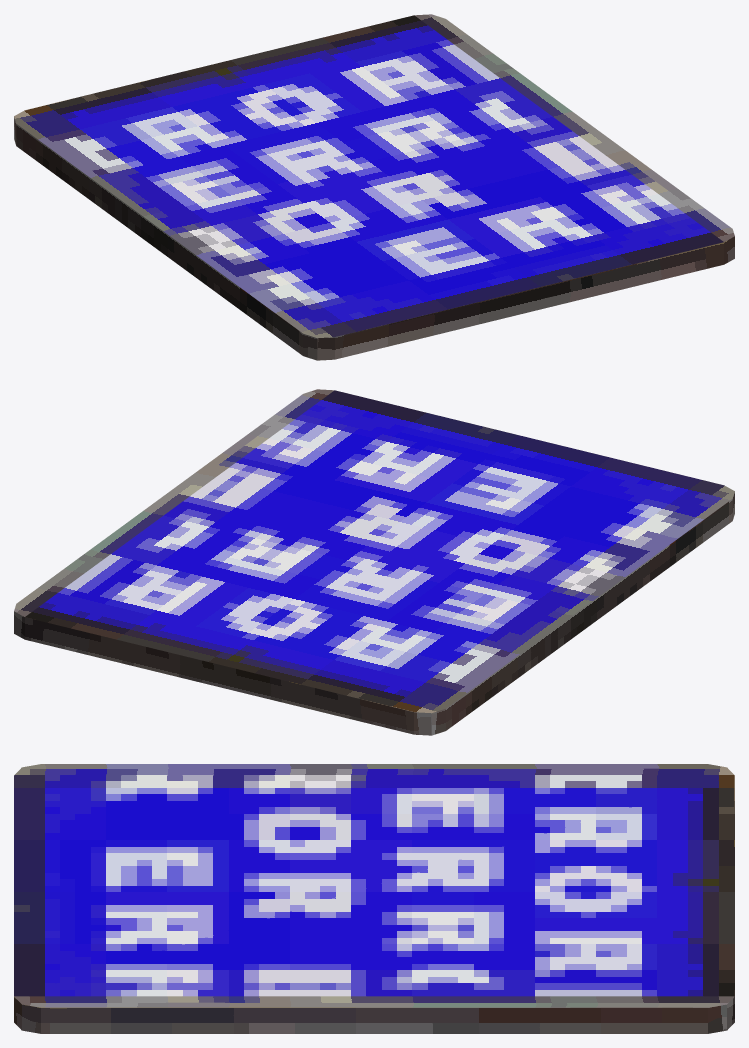
The model's file is item_server_pad.glb.
3 views of the same model, one above another, from view 1: azimuth 30°, elevation 25°; view 2: azimuth 150°, elevation 25°; view 3: azimuth 270°, elevation 25° (orthographic). The views are drawn at different scales.
Parts seen in each view (by area): view 1: IPad; view 2: IPad; view 3: IPad.
Part boxes in pixels (box(x1,y1,x2,y2)): IPad: box(14, 14, 734, 360); IPad: box(14, 389, 734, 735); IPad: box(14, 764, 734, 1033).
Bounding box in the file's own units: 0.448 × 0.0316 × 0.56.
1 material, 1 textured.
